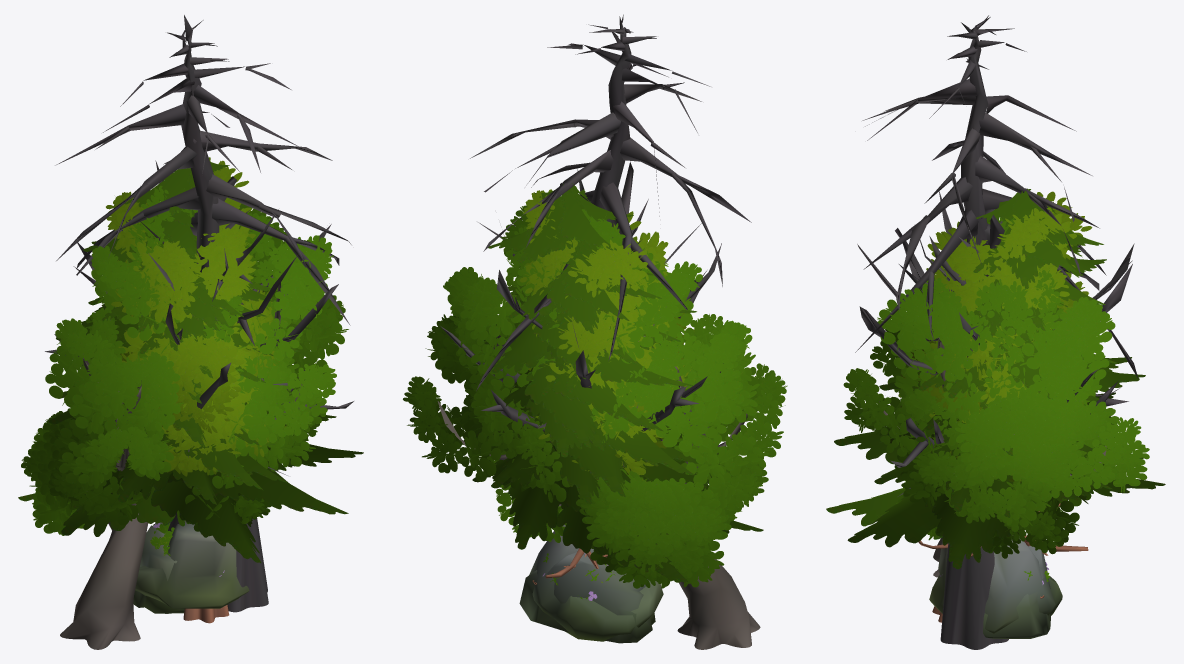
File: quaternius-nature.glb
3 views of the same model, side by side, from view 1: azimuth 30°, elevation 25°; view 2: azimuth 150°, elevation 25°; view 3: azimuth 270°, elevation 25° (orthographic). The views are drawn at different scales.
Parts seen in each view (by area): view 1: q_twisted_1, q_pine_5, q_dead_3, q_tree_3, q_rock_1, q_tree_1, q_dead_1, q_pine_1, q_rock_2, q_pine_3; view 2: q_twisted_1, q_pine_5, q_dead_3, q_tree_3, q_rock_1, q_rock_2, q_dead_1, q_pine_1, q_tree_1, q_pine_3, q_tree_5; view 3: q_twisted_1, q_dead_3, q_pine_5, q_tree_3, q_rock_1, q_dead_1, q_rock_2, q_pine_1, q_tree_1, q_pine_3.
Boxes of the visible parts, x1,y1,x2,y2 form: q_twisted_1: [21, 185, 348, 649]; q_pine_5: [18, 162, 363, 623]; q_dead_3: [55, 15, 351, 612]; q_tree_3: [106, 157, 281, 433]; q_rock_1: [135, 521, 249, 608]; q_tree_1: [118, 279, 287, 476]; q_dead_1: [45, 160, 353, 613]; q_pine_1: [111, 242, 287, 504]; q_rock_2: [133, 522, 184, 613]; q_pine_3: [137, 240, 304, 418]; q_twisted_1: [403, 205, 787, 649]; q_pine_5: [484, 183, 763, 582]; q_dead_3: [470, 14, 751, 390]; q_tree_3: [519, 189, 694, 461]; q_rock_1: [529, 524, 663, 641]; q_rock_2: [519, 552, 655, 643]; q_dead_1: [440, 161, 721, 466]; q_pine_1: [472, 302, 709, 578]; q_tree_1: [525, 313, 695, 482]; q_pine_3: [476, 293, 683, 584]; q_tree_5: [544, 331, 662, 468]; q_twisted_1: [843, 210, 1149, 577]; q_dead_3: [855, 15, 1138, 649]; q_pine_5: [826, 188, 1165, 622]; q_tree_3: [898, 191, 1092, 482]; q_rock_1: [929, 538, 1062, 633]; q_dead_1: [857, 191, 1134, 496]; q_rock_2: [983, 542, 1051, 638]; q_pine_1: [874, 274, 1113, 551]; q_tree_1: [900, 322, 1087, 482]; q_pine_3: [890, 275, 1099, 598].
Size of the model in its own units: 8.38 by 14.57 by 7.78.
2 materials, 1 textured.
